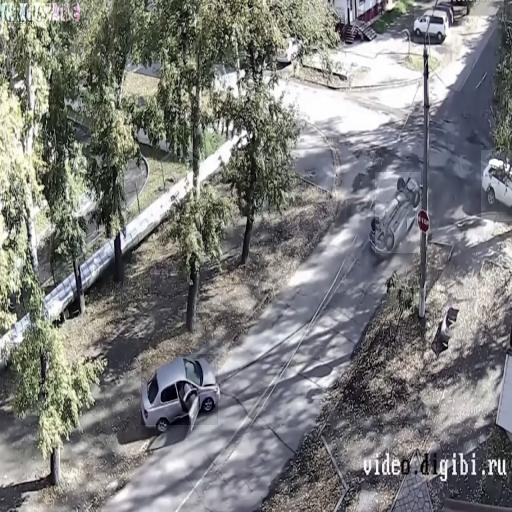小汽车: (141, 354, 218, 425), (376, 172, 422, 253), (481, 150, 512, 221), (414, 5, 451, 42)
